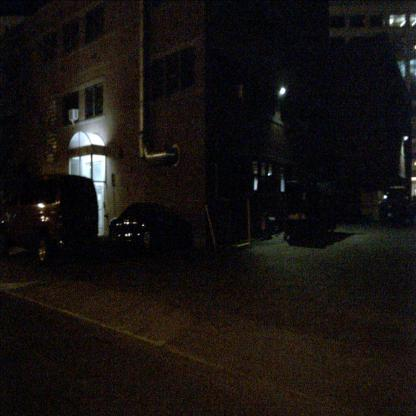vehicle-car: (0, 172, 99, 265), (284, 180, 335, 244), (108, 202, 171, 249)
